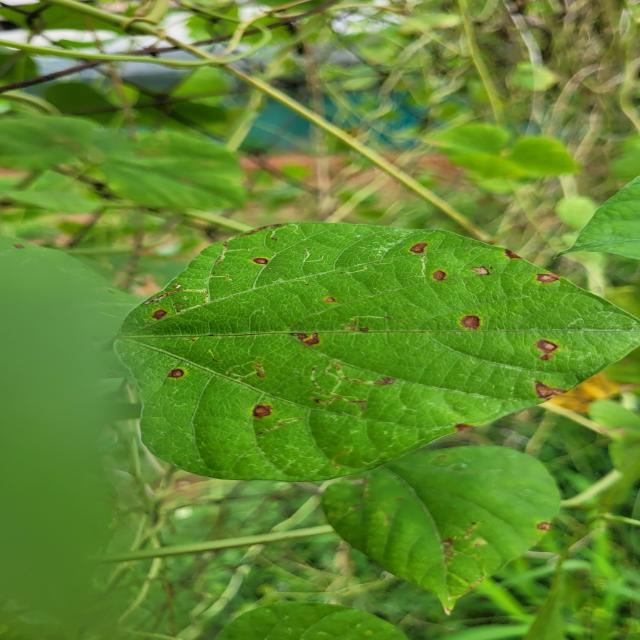Dolicos bean_cercospora leaf spot: (105, 224, 640, 484), (312, 450, 576, 616)
